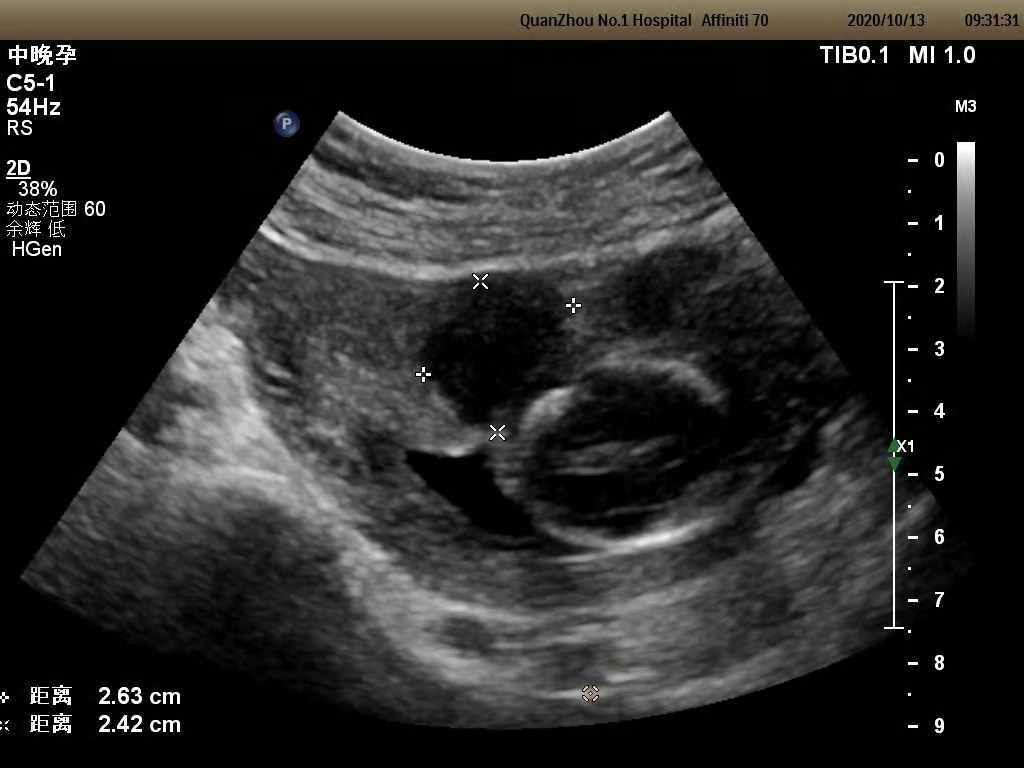肌瘤: (423, 274, 574, 426)
